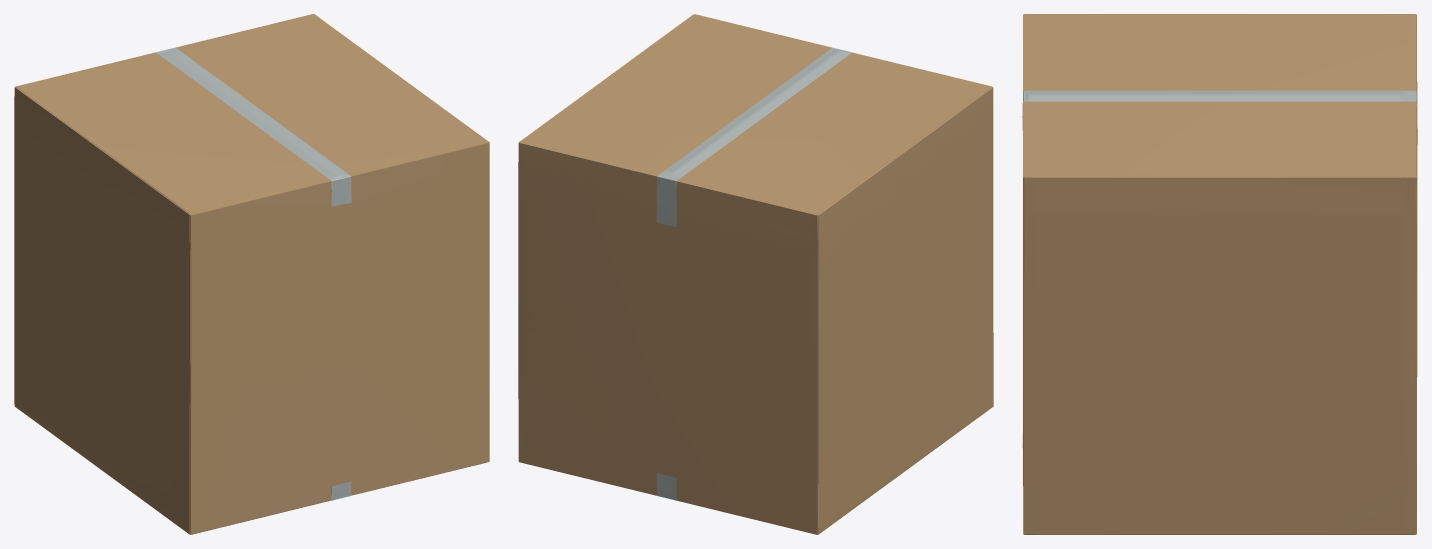
3 renders of one model, left to right at view 1: azimuth 30°, elevation 25°; view 2: azimuth 150°, elevation 25°; view 3: azimuth 270°, elevation 25°, orthographic. The views are drawn at different scales.
Bounding box in the file's own units: 0.9031 × 0.9216 × 0.9188.
